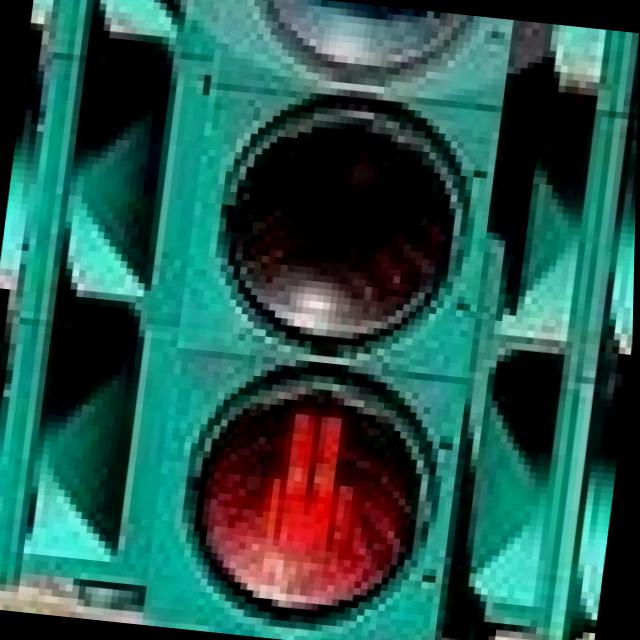red_light: (213, 392, 392, 614)
